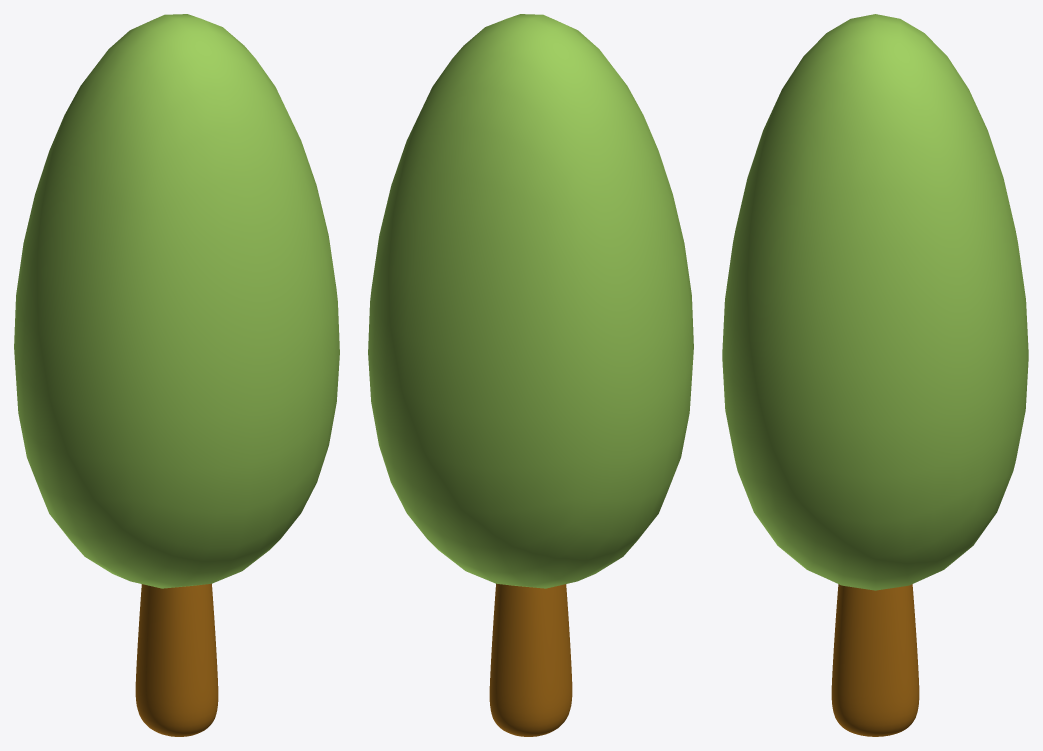
File: Tree1.fbx
3 views of the same model, side by side, from view 1: azimuth 30°, elevation 25°; view 2: azimuth 150°, elevation 25°; view 3: azimuth 270°, elevation 25° (orthographic).
Parts seen in each view (by area): view 1: Tree1; view 2: Tree1; view 3: Tree1.
Part boxes in pixels (bbox=[...]): Tree1: bbox=[14, 14, 339, 736]; Tree1: bbox=[368, 14, 693, 736]; Tree1: bbox=[722, 14, 1028, 736].
Size of the model in its own units: 3.35 by 8.03 by 3.14.
